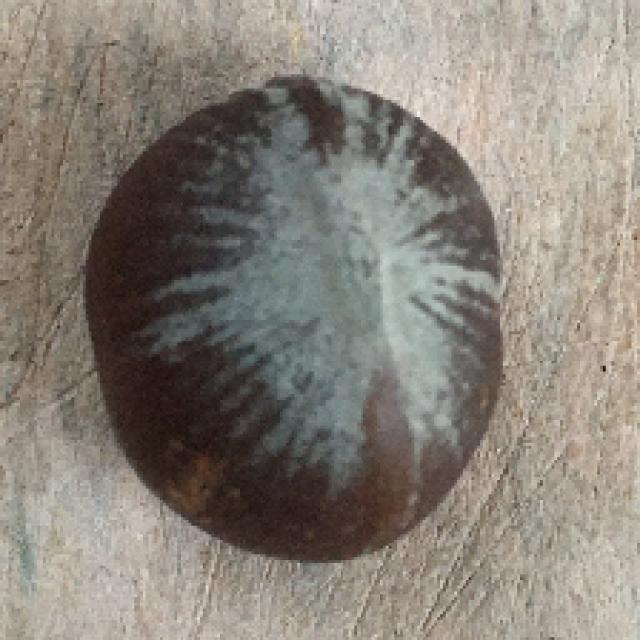damagedHazelnut: (91, 76, 506, 568)
